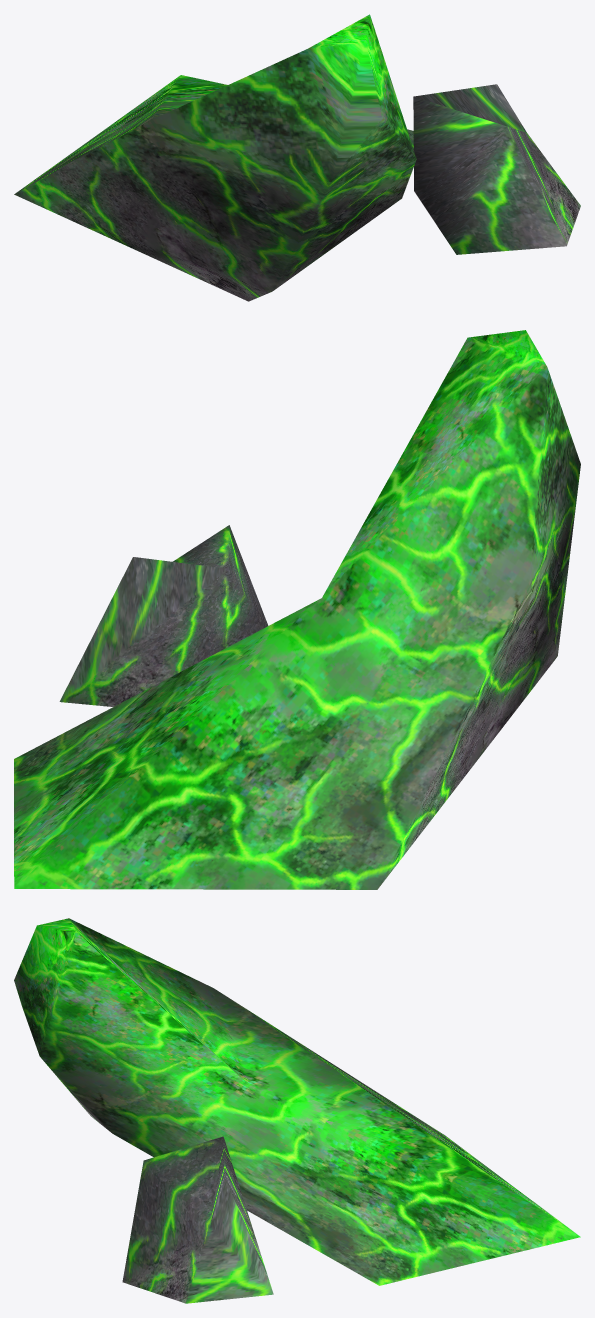
File: environment_stone_lvguangshi_01_a.FBX
3 views of the same model, one above another, from view 1: azimuth 30°, elevation 25°; view 2: azimuth 150°, elevation 25°; view 3: azimuth 270°, elevation 25° (orthographic). The views are drawn at different scales.
Parts seen in each view (by area): view 1: environment_stone_lvguangshi_01_a; view 2: environment_stone_lvguangshi_01_a; view 3: environment_stone_lvguangshi_01_a.
Boxes of the visible parts, box(x1,y1,x2,y2) form: environment_stone_lvguangshi_01_a: box(14, 14, 580, 301); environment_stone_lvguangshi_01_a: box(14, 330, 580, 889); environment_stone_lvguangshi_01_a: box(14, 918, 580, 1303).
Bounding box in the file's own units: 207 × 147 × 293.
1 material, 1 textured.
